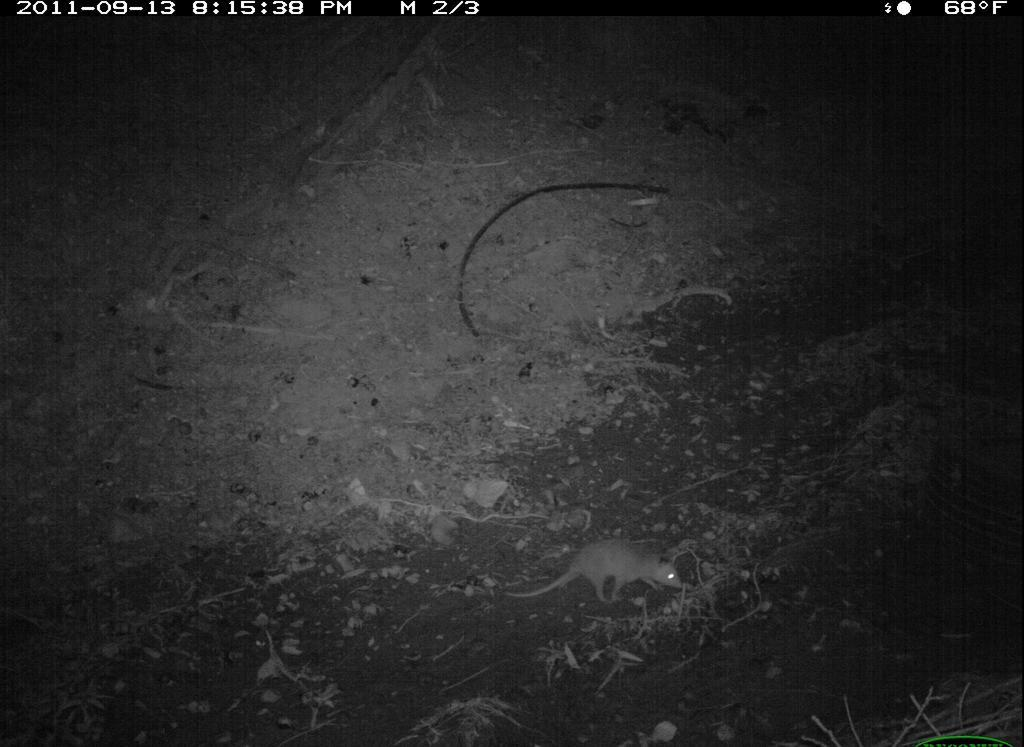opossum: (509, 532, 690, 623)
